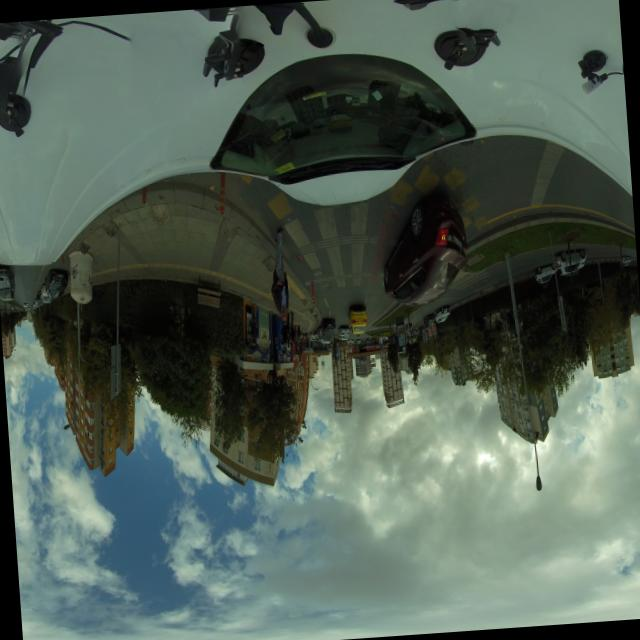SignStore: (358, 347, 365, 351)
